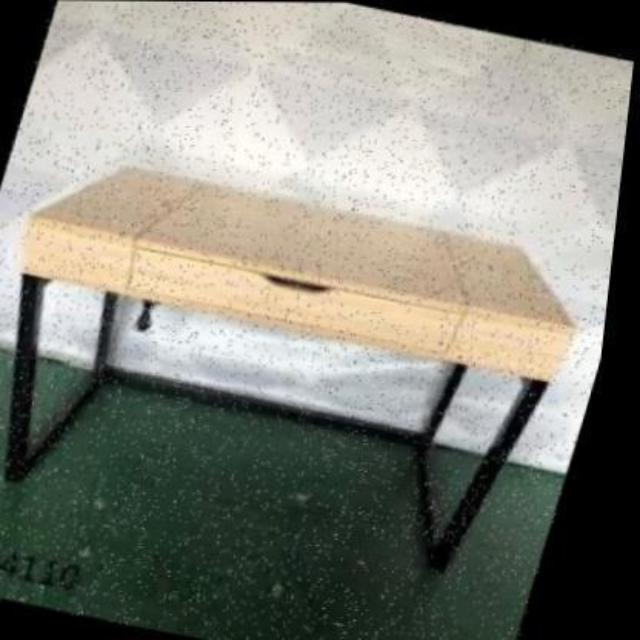table: (3, 168, 565, 570)
